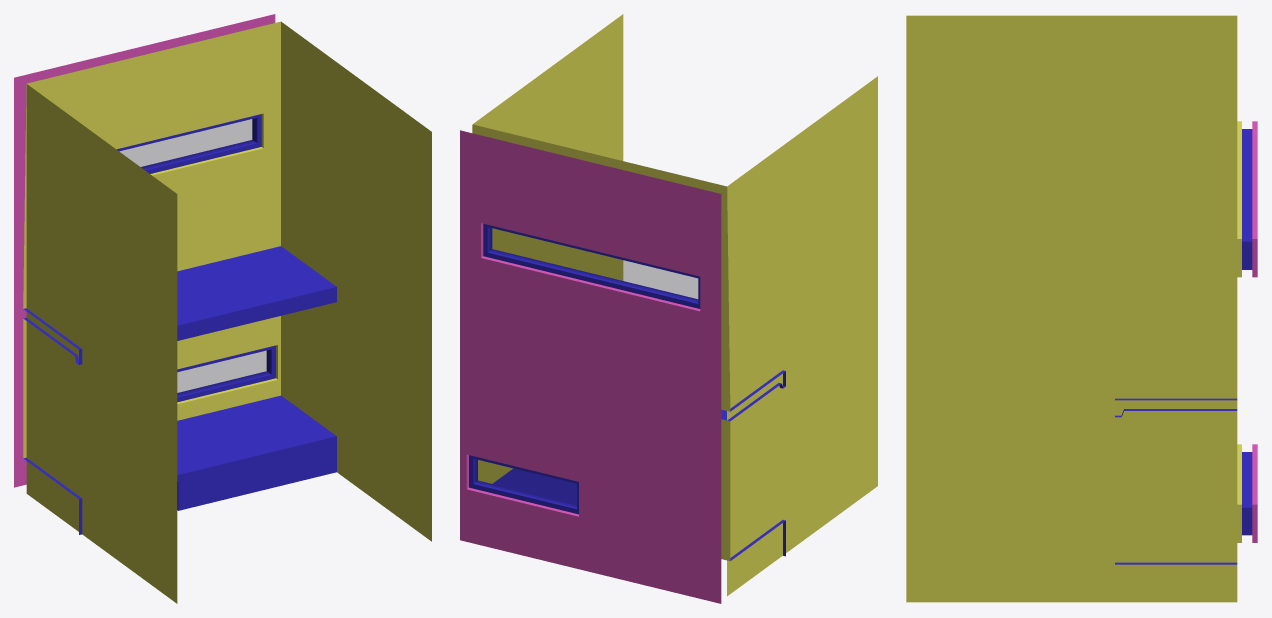
Rendered from SM_room.fbx.
The picture shows the model from 3 angles, left to right: view 1: azimuth 30°, elevation 25°; view 2: azimuth 150°, elevation 25°; view 3: azimuth 270°, elevation 25°; orthographic projection. The views are drawn at different scales.
Parts seen in each view (by area): view 1: room; view 2: room; view 3: room.
Part boxes in pixels (<box>): room: <box>14,14,431,603</box>; room: <box>460,14,877,603</box>; room: <box>906,15,1257,602</box>.
Bounding box in the file's own units: 200 × 300 × 212.
